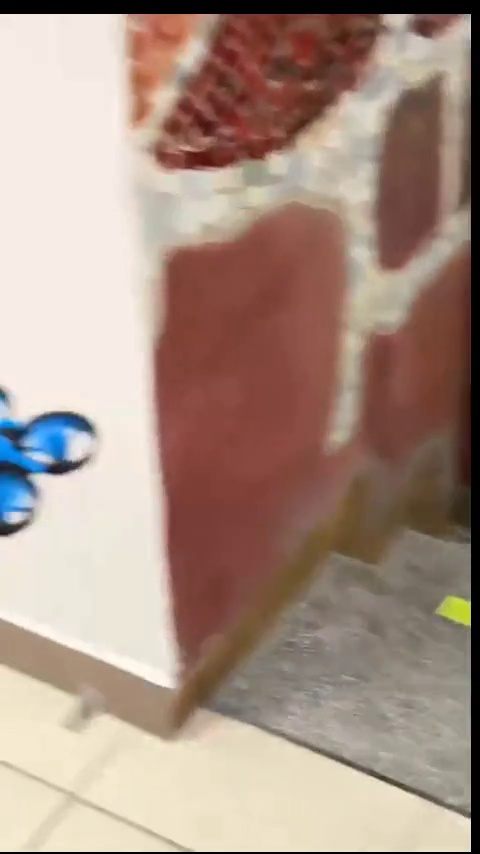drone: (0, 382, 98, 553)
